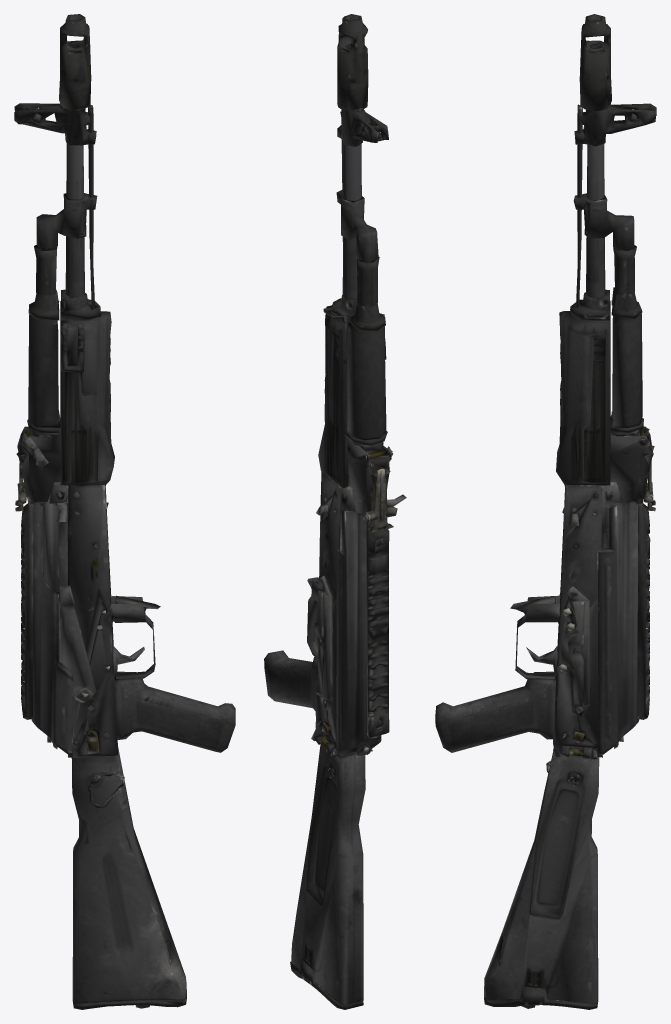
The model's file is AK103NoMag.fbx.
3 views of the same model, side by side, from view 1: azimuth 90°, elevation 25°; view 2: azimuth 210°, elevation 25°; view 3: azimuth 270°, elevation 25° (orthographic).
Visible parts, largest first — view 1: AK103.001; view 2: AK103.001; view 3: AK103.001.
Boxes of the visible parts, <box> form: AK103.001: <box>14,14,235,1009</box>; AK103.001: <box>264,14,406,1009</box>; AK103.001: <box>435,14,656,1009</box>.
Size of the model in its own units: 0.0437 by 0.5859 by 0.1191.
